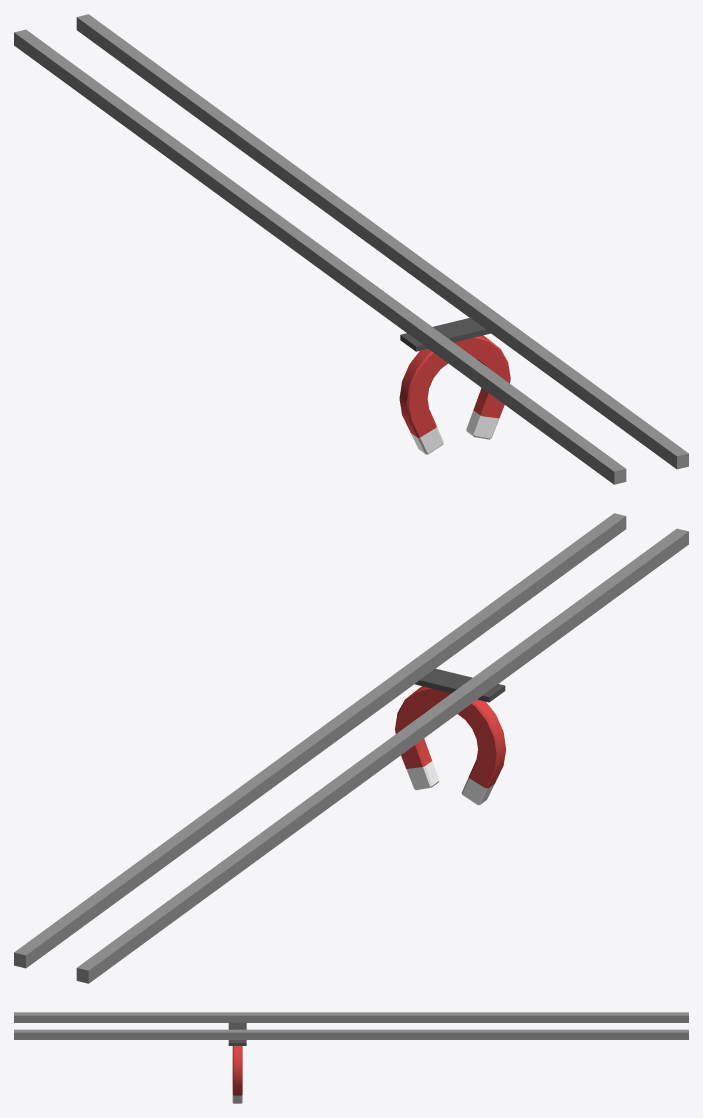
Rendered from Magnet_railing.fbx.
3 renders of one model, top to bottom at view 1: azimuth 30°, elevation 25°; view 2: azimuth 150°, elevation 25°; view 3: azimuth 270°, elevation 25°, orthographic. The views are drawn at different scales.
Parts seen in each view (by area): view 1: Rail, Magnet; view 2: Rail, Magnet; view 3: Rail, Magnet.
Boxes of the visible parts, bbox=[...] form: Rail: bbox=[14, 14, 688, 484]; Magnet: bbox=[399, 318, 510, 454]; Rail: bbox=[14, 513, 688, 983]; Magnet: bbox=[395, 668, 506, 805]; Rail: bbox=[14, 1012, 688, 1039]; Magnet: bbox=[228, 1022, 246, 1103].
Size of the model in its own units: 2.25 by 2.64 by 22.47.
